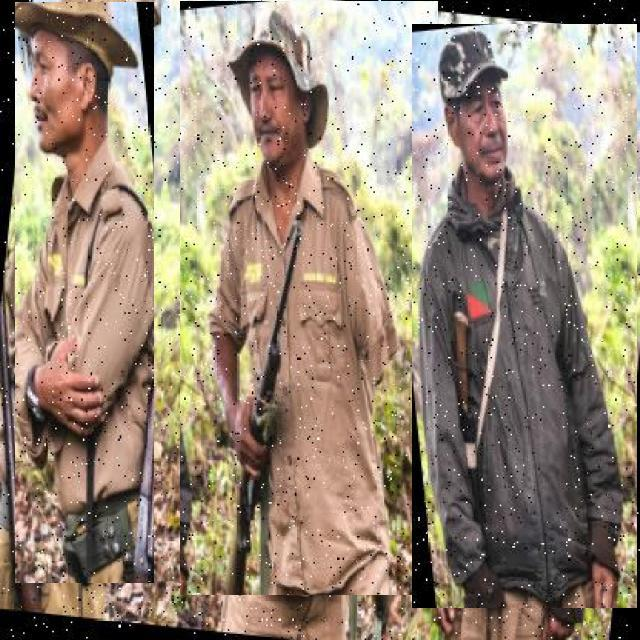poacher: (180, 2, 438, 596), (412, 24, 637, 608), (15, 2, 154, 583)
weapon: (312, 226, 405, 625)
